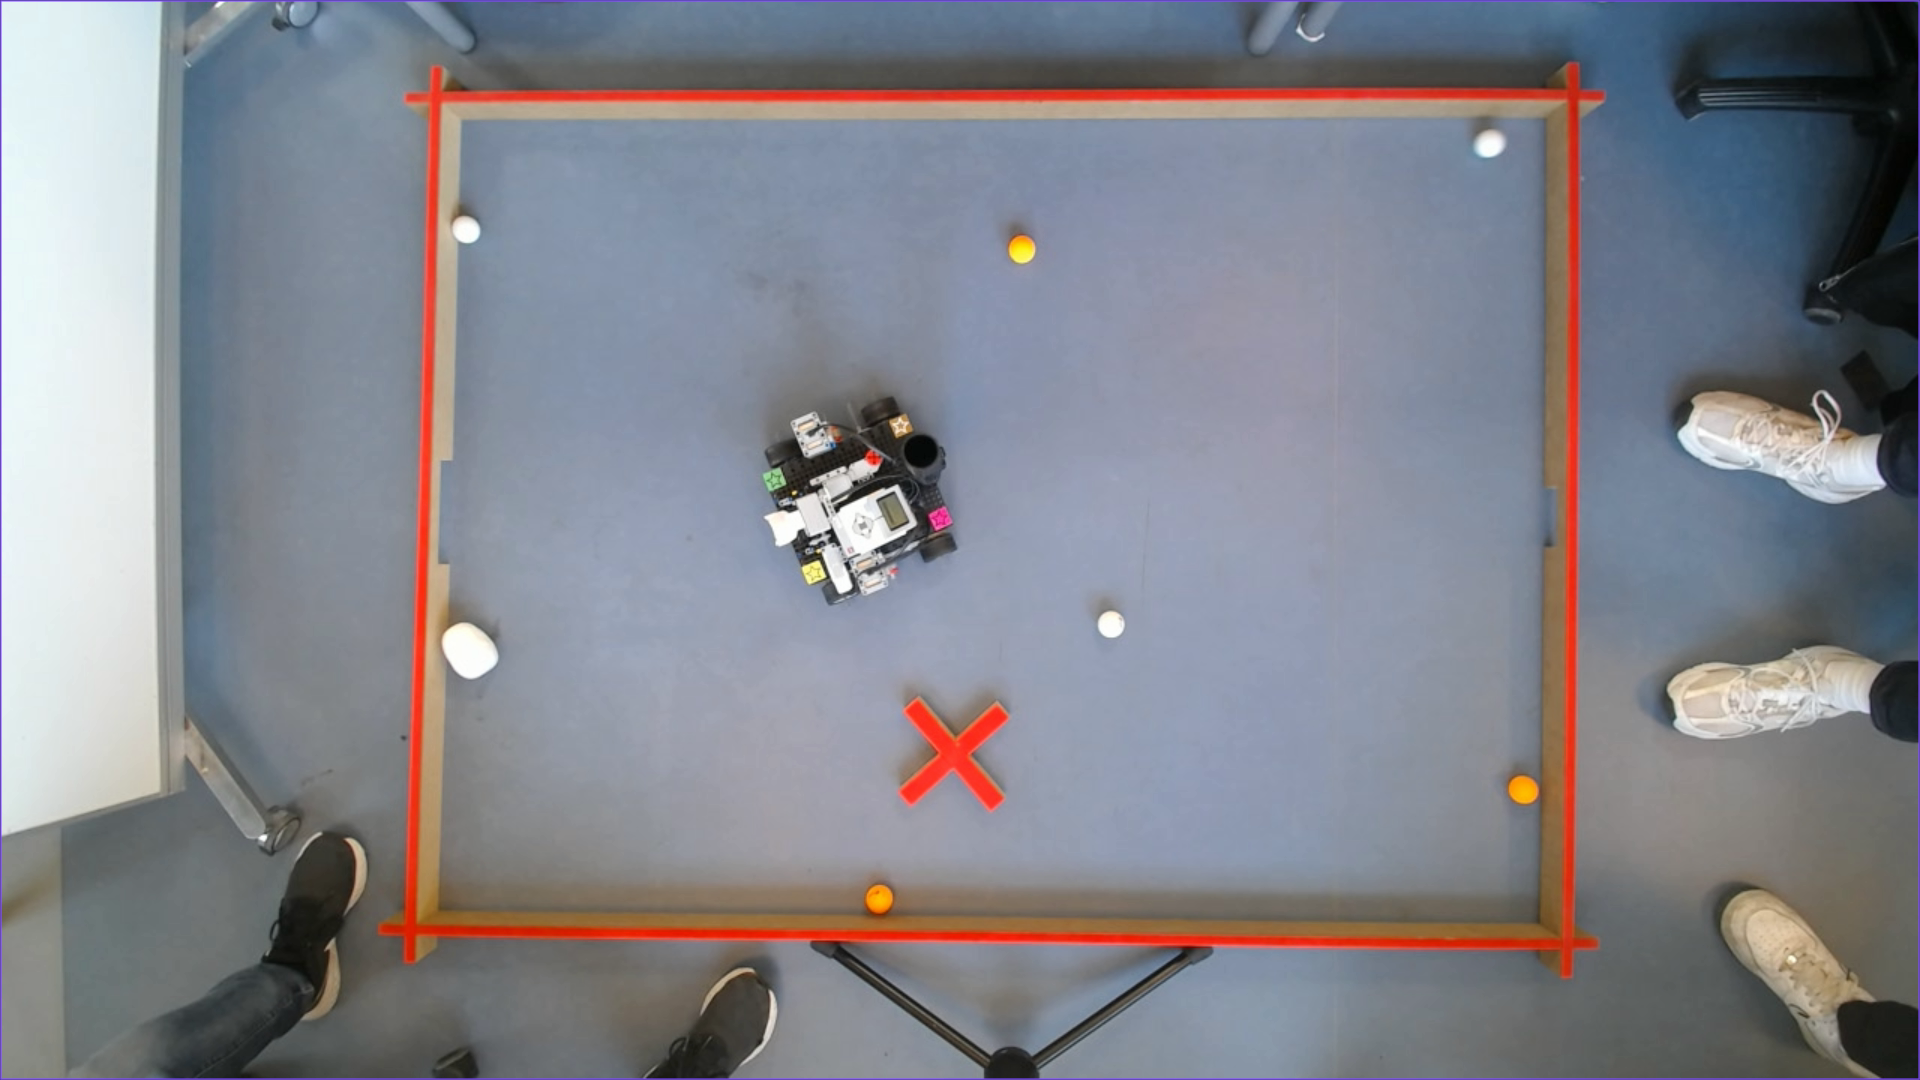ball_orange: (1007, 235, 1036, 265), (865, 884, 893, 914), (1510, 775, 1540, 803)
ball_white: (1476, 131, 1505, 160), (1098, 611, 1126, 640), (452, 215, 479, 244)
corner_brown: (889, 413, 915, 439)
corner_green: (761, 467, 787, 495)
corner_pink: (928, 506, 953, 531)
corner_yellow: (800, 560, 825, 587)
cross: (899, 696, 1007, 811)
egg: (442, 622, 498, 679)
playfield: (396, 86, 1580, 953)
